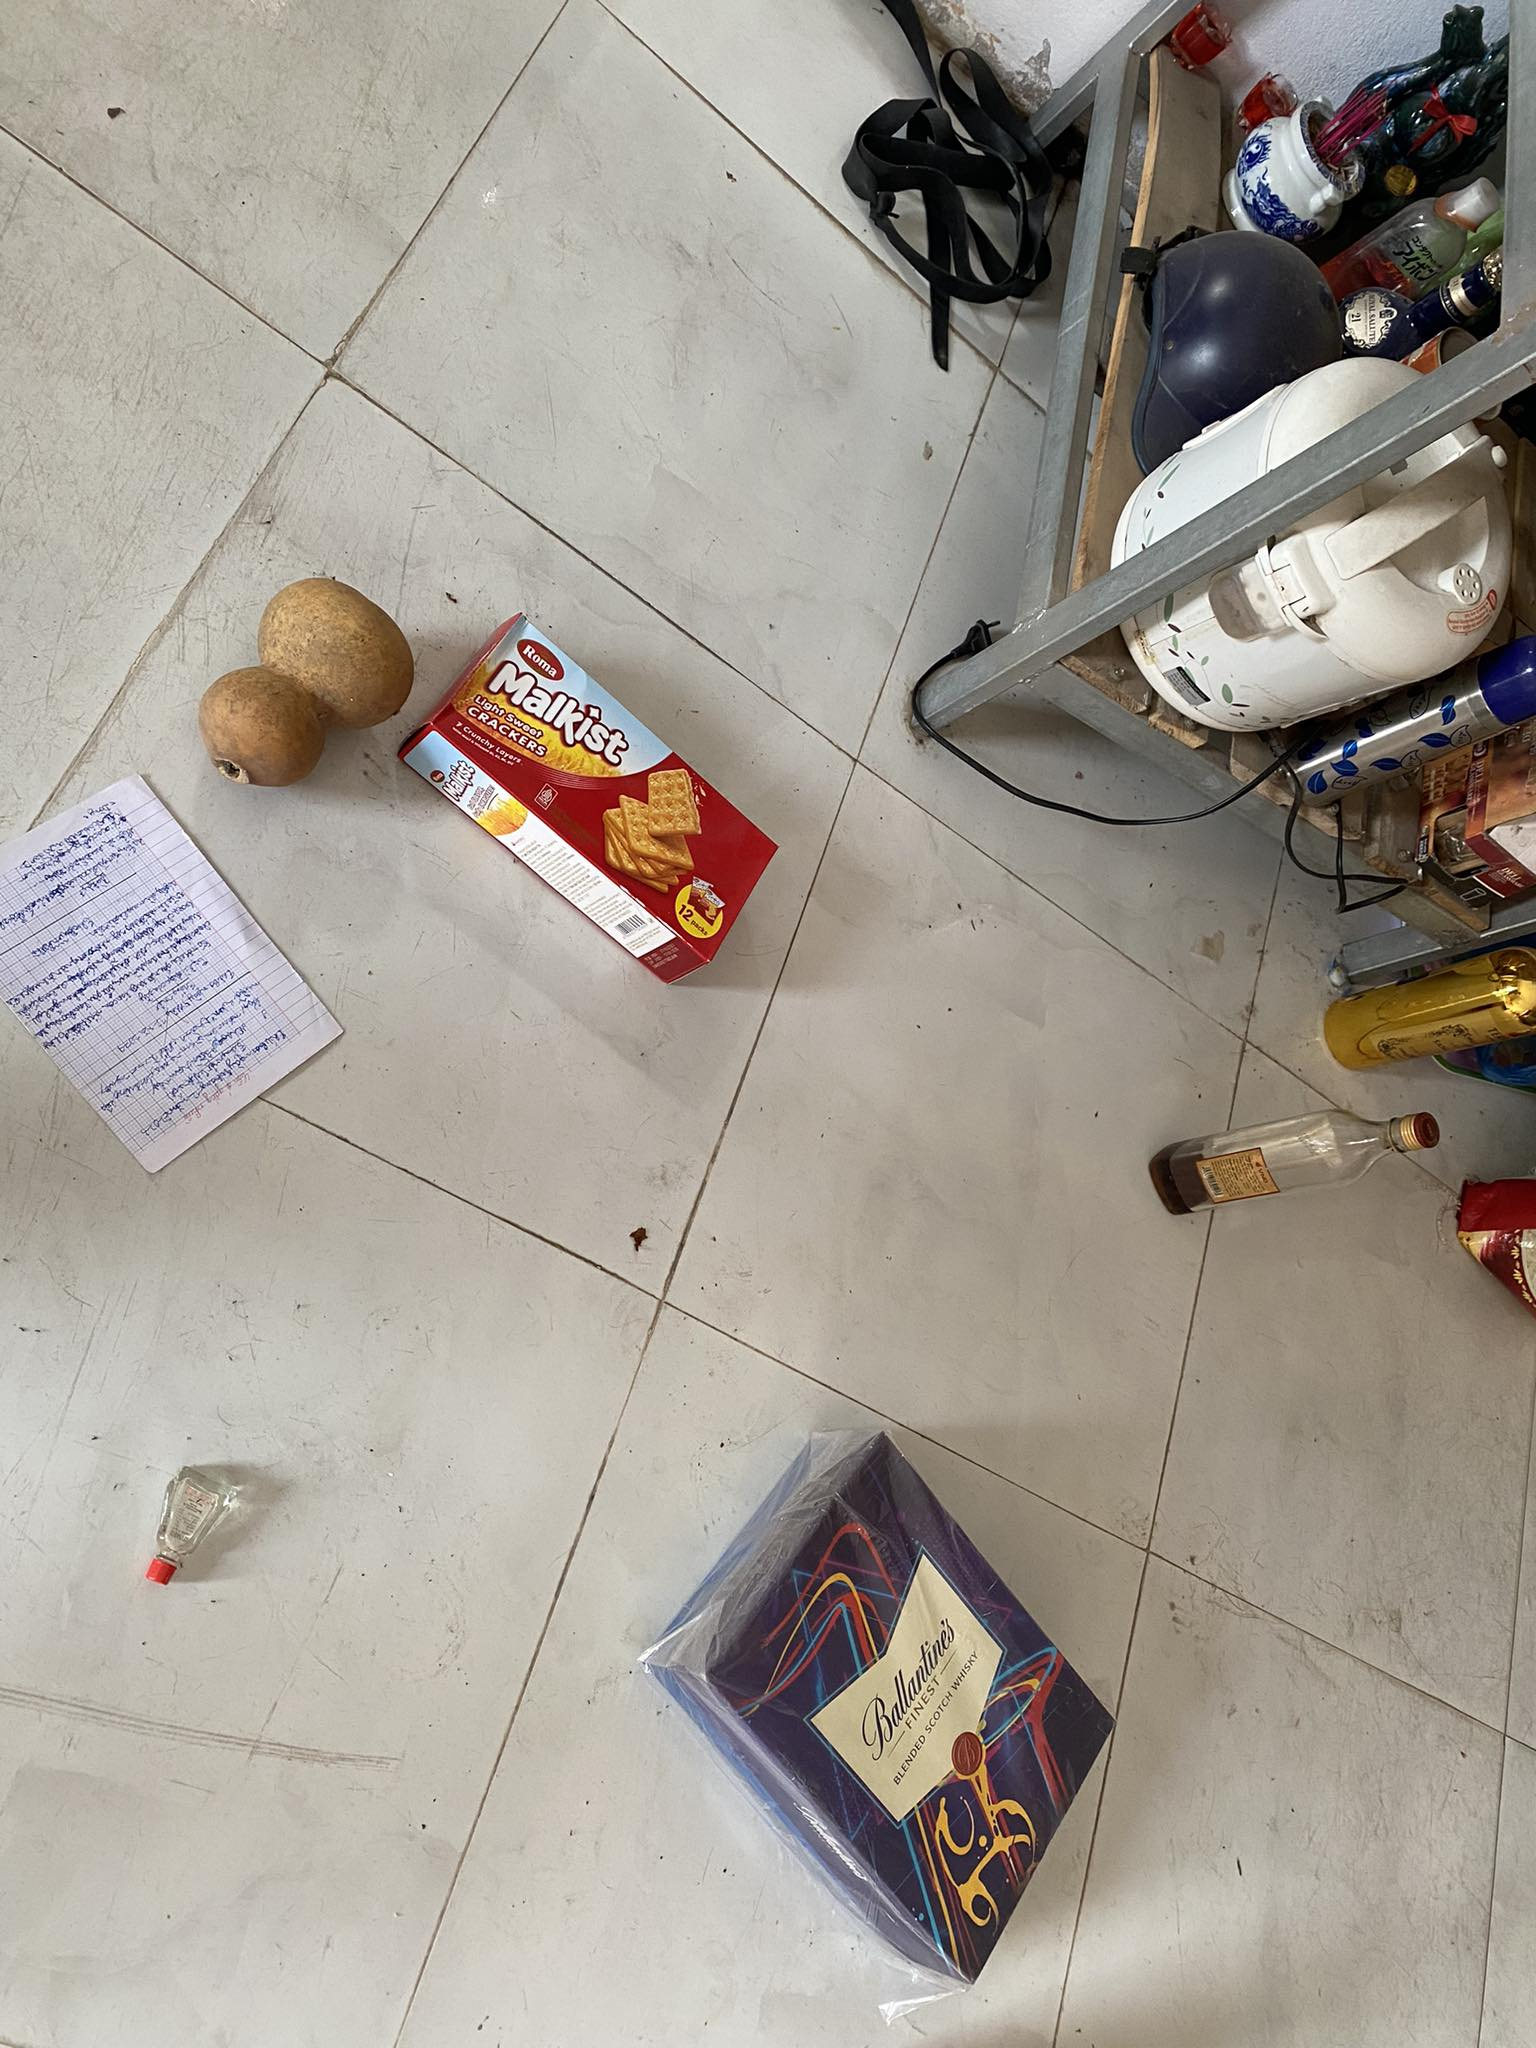cardboard: (624, 1412, 1131, 1976), (388, 575, 830, 978)
glass: (1104, 1093, 1439, 1256), (1306, 948, 1536, 1081), (129, 1447, 286, 1629)
metal: (1249, 666, 1536, 792)
paper: (0, 762, 346, 1176)
plastic: (1110, 346, 1536, 723)
wood: (183, 560, 396, 818)
